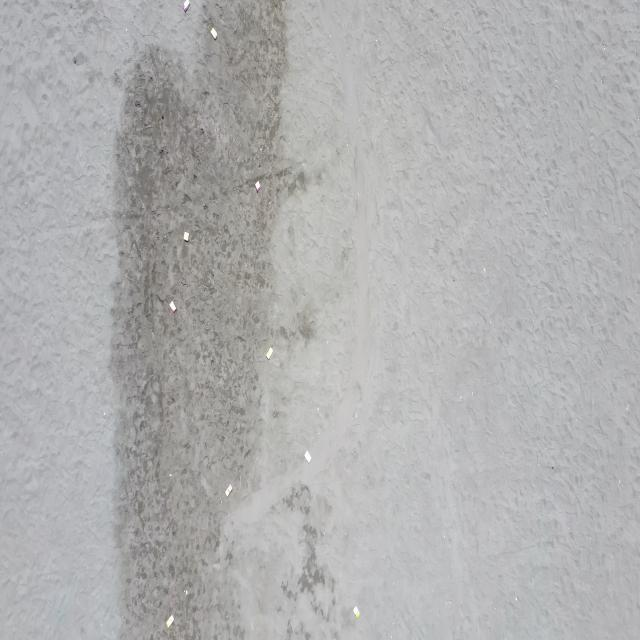Garbage: (164, 615, 172, 627), (264, 347, 272, 359), (303, 449, 310, 462), (224, 484, 232, 495), (168, 300, 175, 312), (209, 27, 216, 39), (353, 606, 359, 617), (183, 0, 188, 12), (255, 180, 260, 191), (183, 231, 188, 240), (184, 588, 187, 595)
